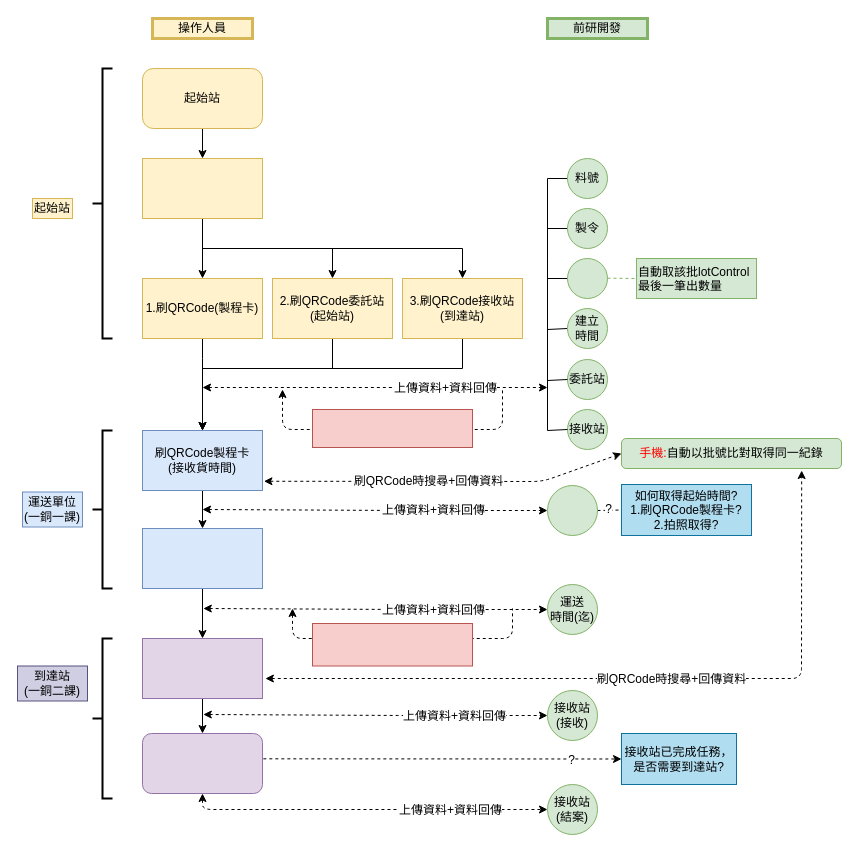
The diagram is 859 pixels wide and 852 high, and some of its shapes have lost their labels. The centre of each missing label's shape, as x and y in pixels:
"刷QRCode接收站 (到達站)" belongs at (202,763).
"刷QRCode接收站 (接收)" belongs at (202,668).
"刷QRCode製程卡 (抵達站時間)" belongs at (202,558).
"拉板件至碼頭" belongs at (202,188).
"數量" belongs at (587,278).
"通知到達站一銅二課 (到達站單位之共用信箱)" belongs at (392,644).
"通知運送站簡訊+Email (系統設定之固定運送站)" belongs at (392,428).
"運送 時間(起)" belongs at (572,510).
